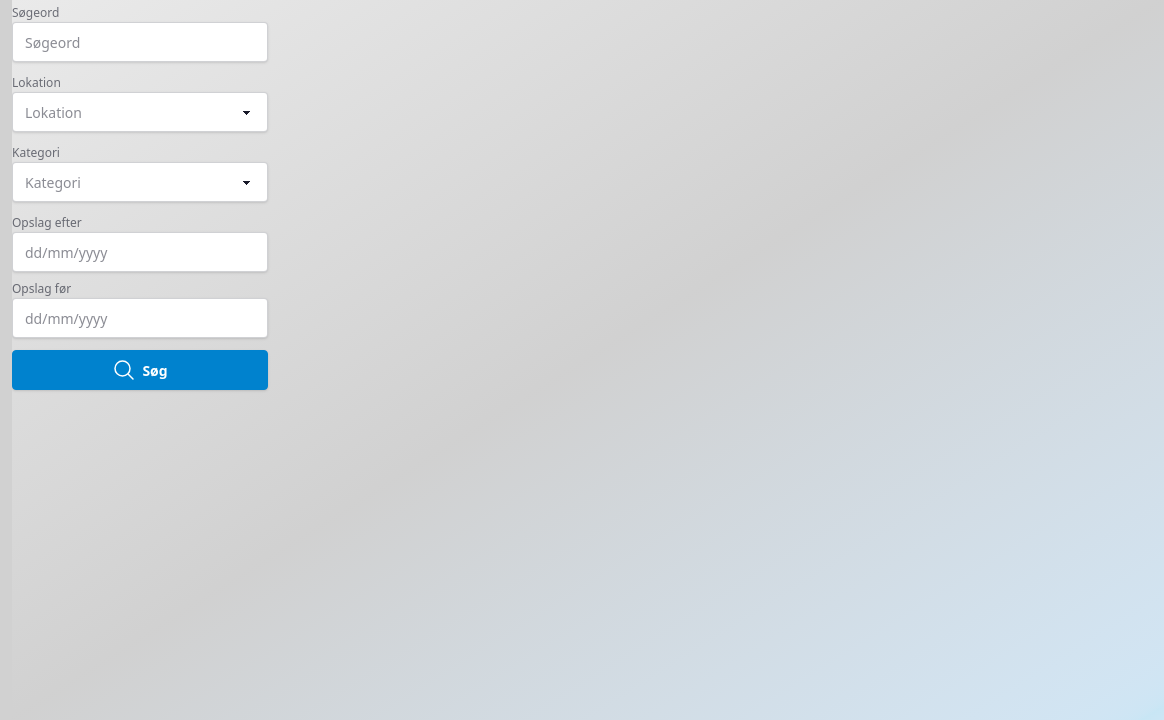
SearchForm suggestions › loads initial city suggestions on focus
This screenshot has width=1164, height=720.
Step 1. Click the field with placeholder "Lokation" → (140, 112), box [12,92,268,132]
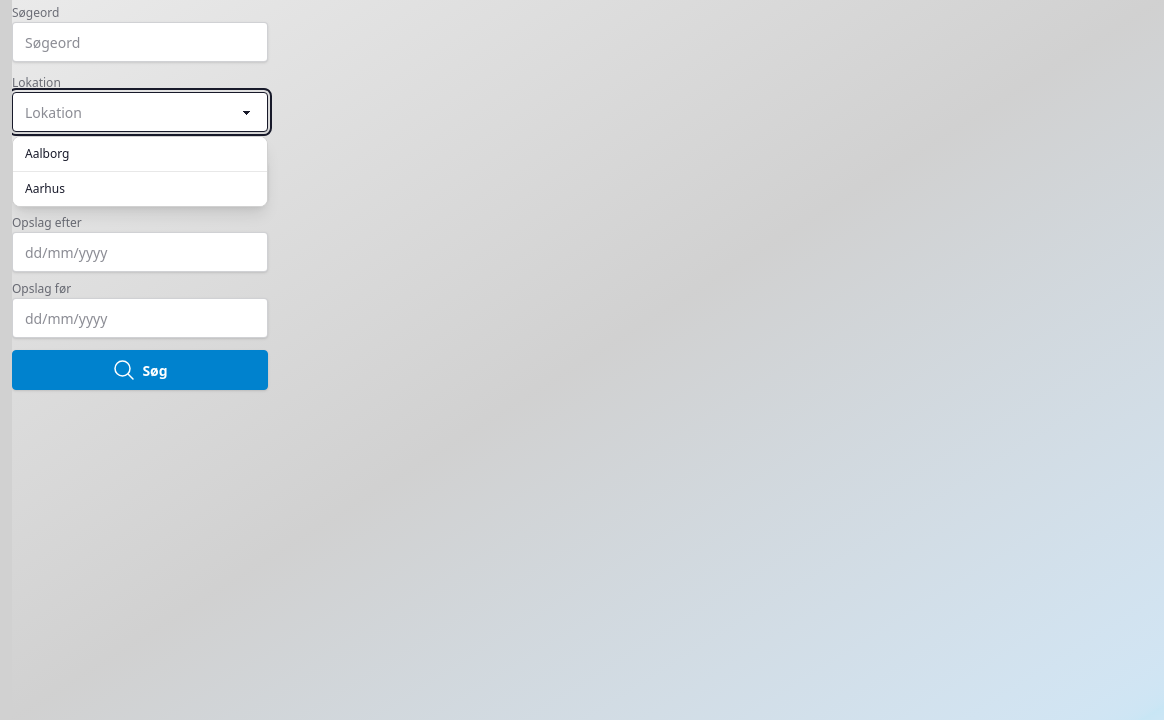
Result: the button with aria-label "Vælg Aalborg" is shown at [13,137,267,171]
